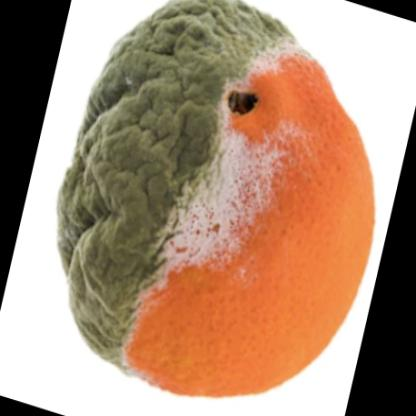rotten: (57, 1, 376, 400)
